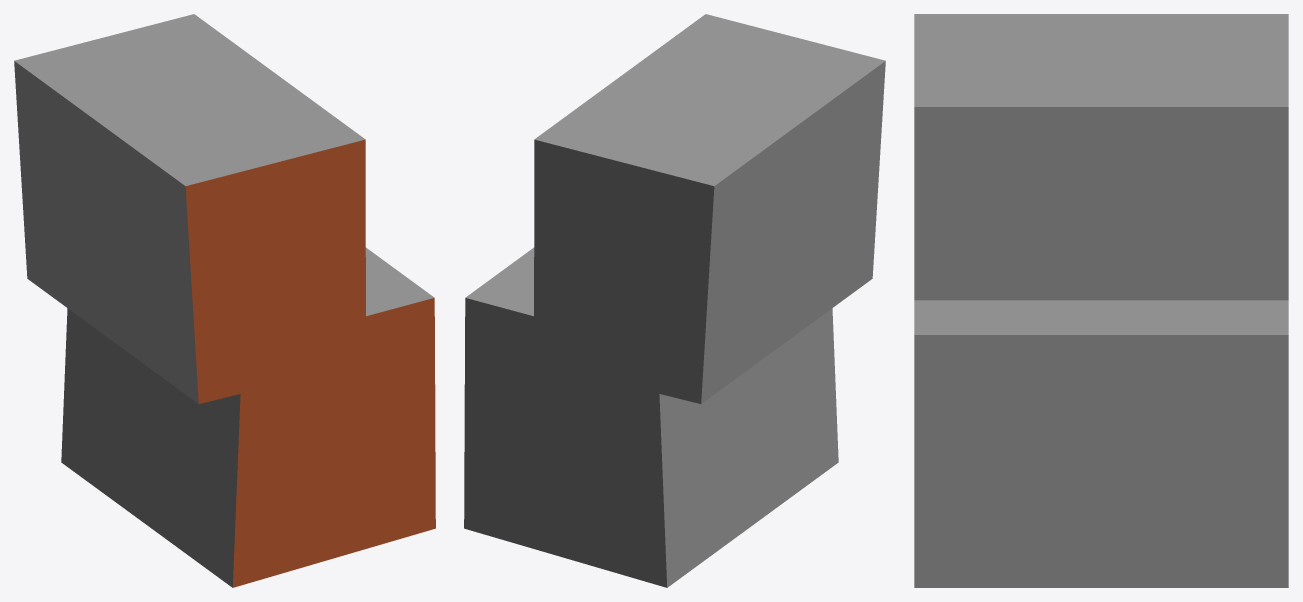
Rendered from construction_4108_assumed_A_Casa_h6m.obj.
The picture shows the model from 3 angles, left to right: view 1: azimuth 30°, elevation 25°; view 2: azimuth 150°, elevation 25°; view 3: azimuth 270°, elevation 25°; orthographic projection. The views are drawn at different scales.
Visible parts, largest first — view 1: construction_4108_assumed_A_Casa; view 2: construction_4108_assumed_A_Casa; view 3: construction_4108_assumed_A_Casa.
Part boxes in pixels (left/top/right/bottom): construction_4108_assumed_A_Casa: left=14, top=14, right=435, bottom=587; construction_4108_assumed_A_Casa: left=464, top=14, right=885, bottom=587; construction_4108_assumed_A_Casa: left=914, top=14, right=1288, bottom=587.
Size of the model in its own units: 5.06 by 8.03 by 6.
